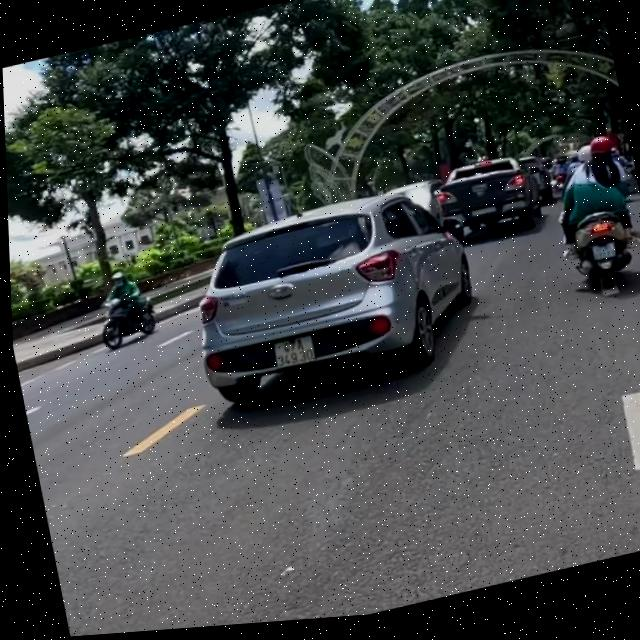car: (177, 171, 494, 426), (431, 143, 547, 247)
motorcycle: (559, 204, 640, 298), (87, 290, 164, 351)
plate: (267, 329, 327, 378), (586, 234, 621, 266)
